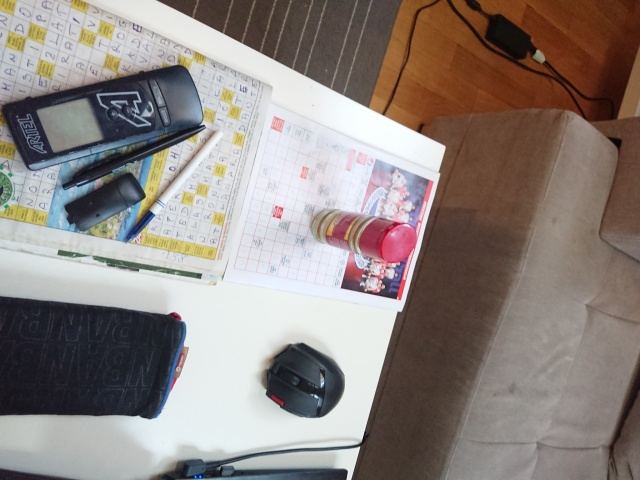Kotanyi Curry Spices Mix 70g: (308, 205, 419, 266)
